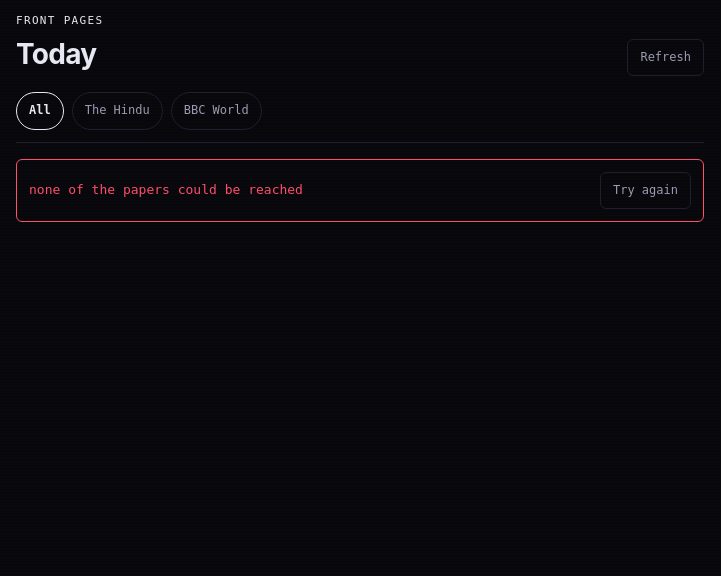
Test case: News › says so and offers a retry when the fetch fails
This screenshot has width=721, height=576.
Expected: the message shows "none of the papers", [29,182,303,197]
Click the button "Try again".
click(646, 190)  # box [600,172,691,209]
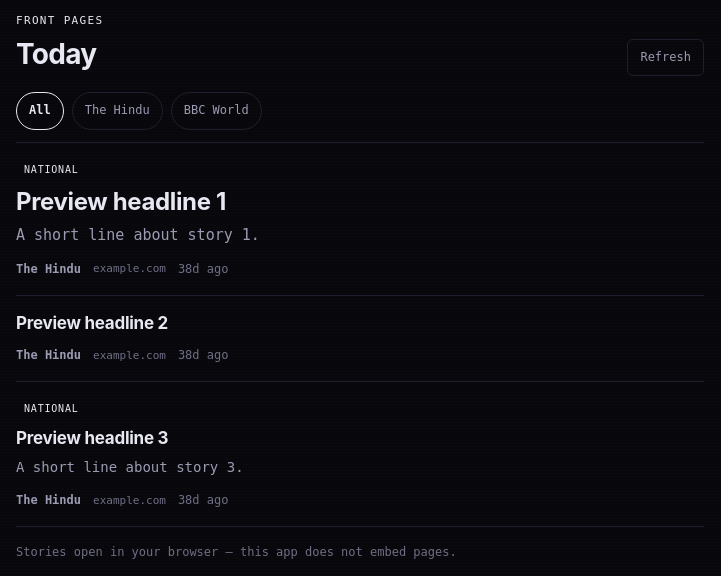
Expected: the list named "stories" is shown
